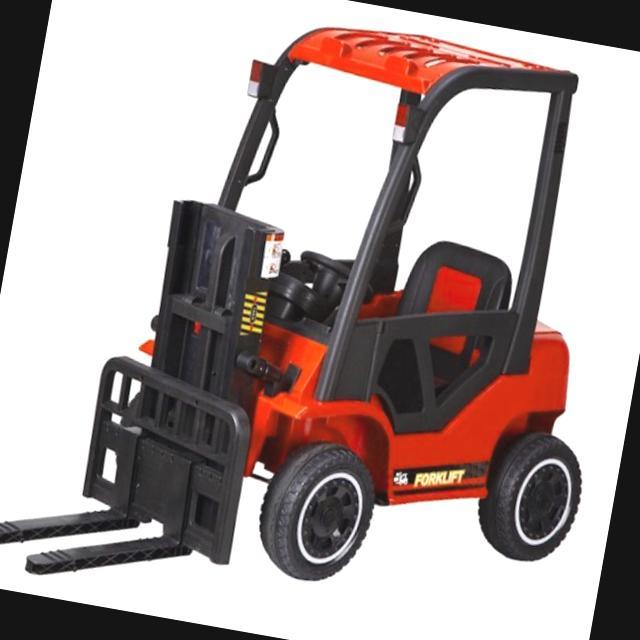forklift: (58, 0, 640, 635)
